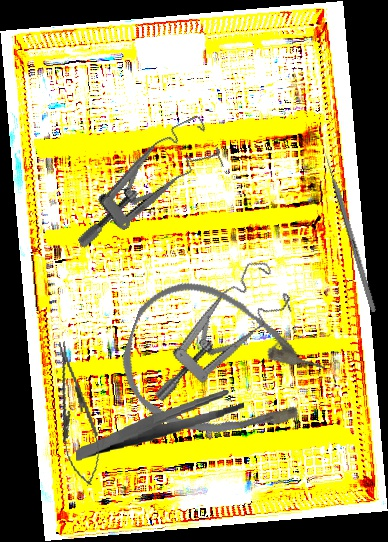Cannula: (107, 267, 338, 466)
Dressing Forceps: (72, 389, 247, 461)
Needle Holder: (44, 338, 108, 489)
Pusher: (320, 143, 377, 313)
Speculum: (121, 253, 309, 405), (51, 113, 233, 250)
